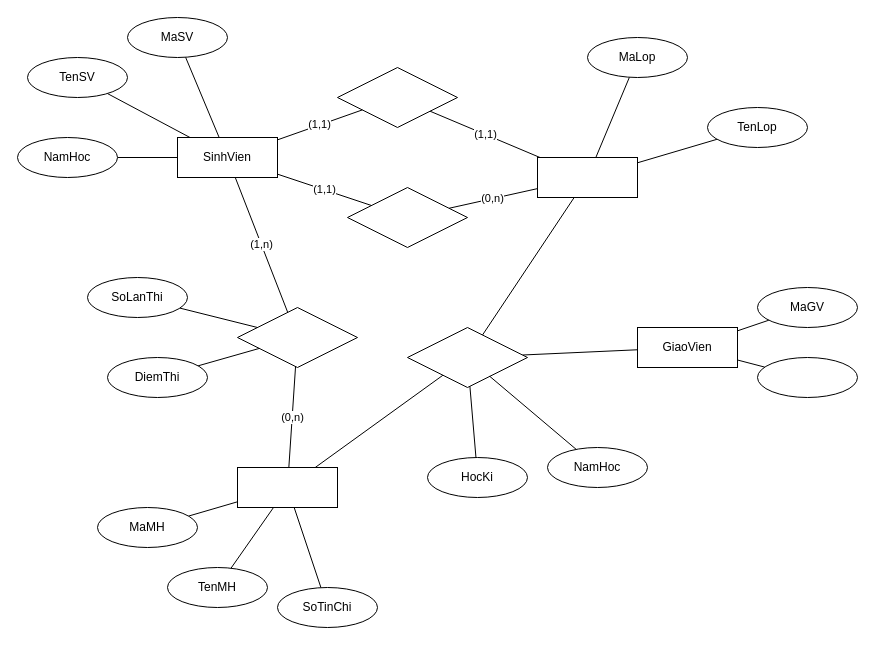
Image size: 875x645. Some labels were removed from this diagram. Each missing label, with the centre of its shape:
"KetQuaThi" belongs at [297,337].
"LopHoc" belongs at [587,177].
"LopTruong" belongs at [397,97].
"MonHoc" belongs at [287,487].
"PhanCong" belongs at [467,357].
"TenGV" belongs at [807,377].
"ThamGia" belongs at [407,217].
